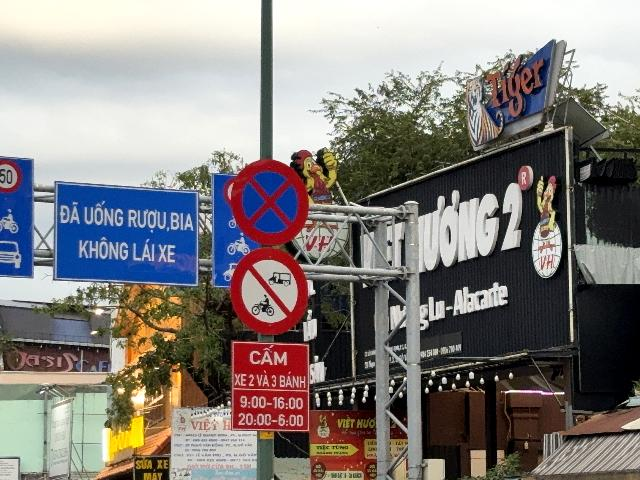cam-dung-va-do-xe: (231, 157, 309, 247)
cam-xe-2-banh-3-banh: (229, 246, 309, 335)
toc-do-toi-da-cho-phep: (0, 160, 21, 193)
